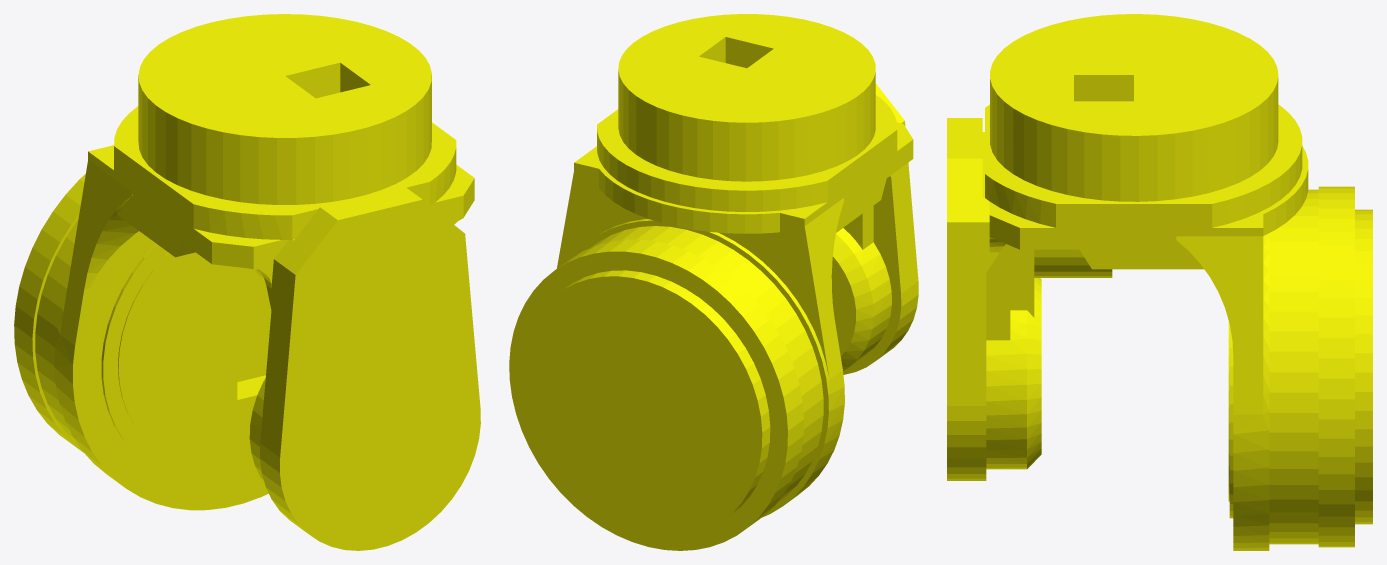
3 renders of one model, left to right at view 1: azimuth 30°, elevation 25°; view 2: azimuth 150°, elevation 25°; view 3: azimuth 270°, elevation 25°, orthographic. The views are drawn at different scales.
Visible parts, largest first — view 1: node; view 2: node; view 3: node.
Part boxes in pixels (x1,y1,x2,y2): node: (14, 14, 480, 550); node: (509, 14, 918, 550); node: (947, 14, 1372, 550).
Size of the model in its own units: 306 by 421 by 354.
